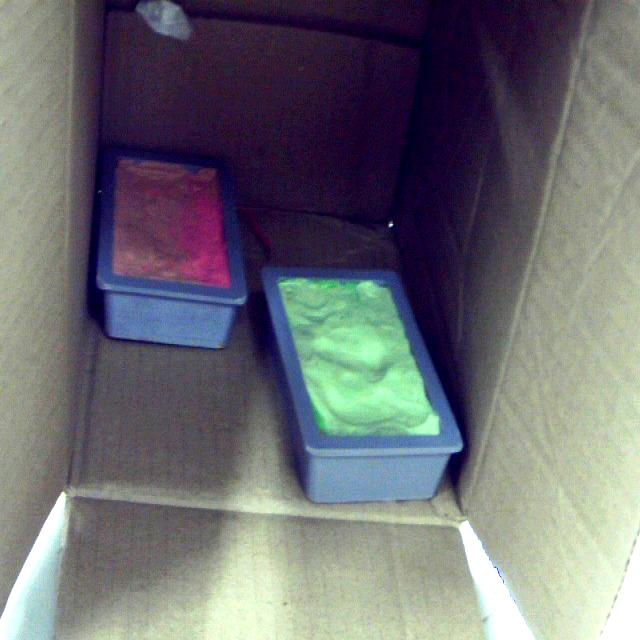block: (257, 263, 465, 502), (93, 145, 252, 350)
